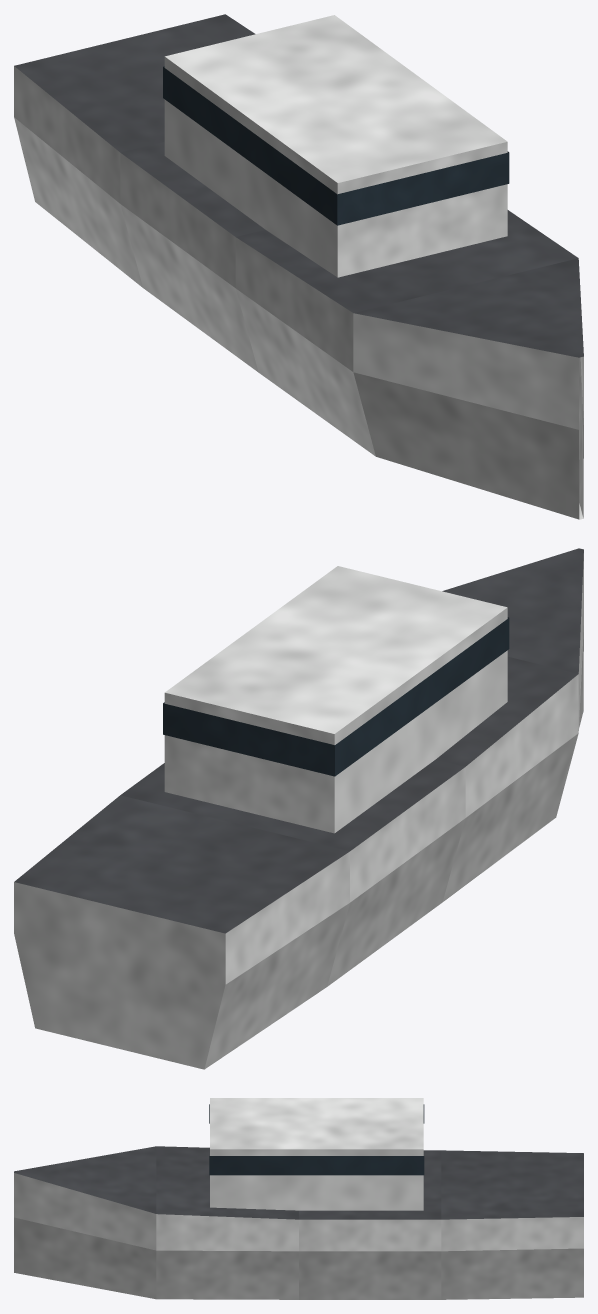
The model's file is SM_MoloItalia_Motovedetta_LOD2.fbx.
3 renders of one model, top to bottom at view 1: azimuth 30°, elevation 25°; view 2: azimuth 150°, elevation 25°; view 3: azimuth 270°, elevation 25°, orthographic. The views are drawn at different scales.
Parts seen in each view (by area): view 1: SM_MoloItalia_Motovedetta_LOD2; view 2: SM_MoloItalia_Motovedetta_LOD2; view 3: SM_MoloItalia_Motovedetta_LOD2.
Boxes of the visible parts, x1,y1,x2,y2 form: SM_MoloItalia_Motovedetta_LOD2: [14, 14, 583, 519]; SM_MoloItalia_Motovedetta_LOD2: [14, 548, 583, 1069]; SM_MoloItalia_Motovedetta_LOD2: [14, 1098, 583, 1299].
Bounding box in the file's own units: 460 × 1600 × 460.
1 material, 1 textured.
